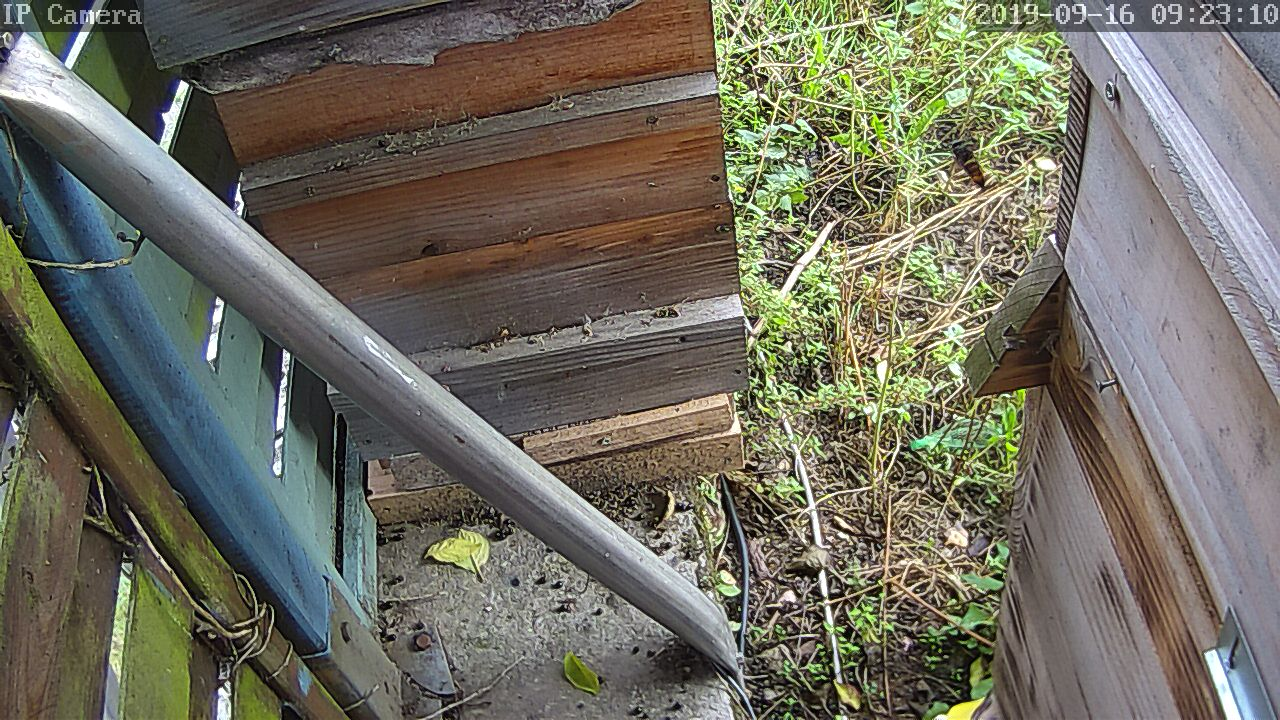hornet: (939, 127, 991, 194)
